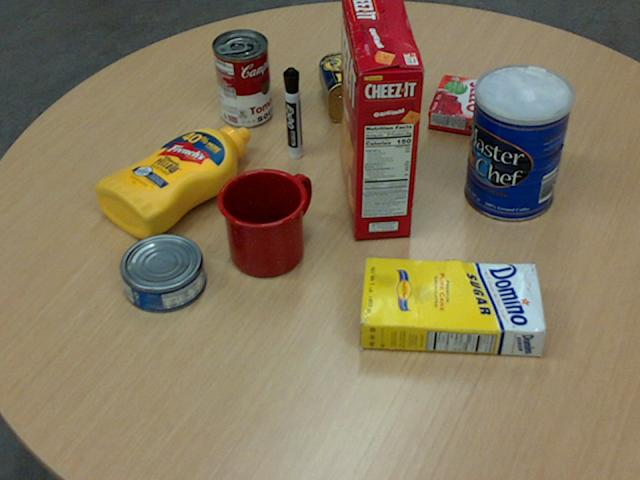cracker_box: (338, 0, 422, 237)
gelatin_box: (427, 73, 498, 135)
large_marker: (283, 66, 301, 158)
master_chef_can: (464, 64, 572, 222)
mug: (215, 168, 310, 277)
mustard_bottle: (94, 125, 249, 237)
potted_meat_can: (319, 46, 407, 121)
sugar_box: (358, 258, 546, 356)
tomato_soup_can: (212, 27, 271, 125)
tuna_fish_can: (118, 233, 205, 312)
